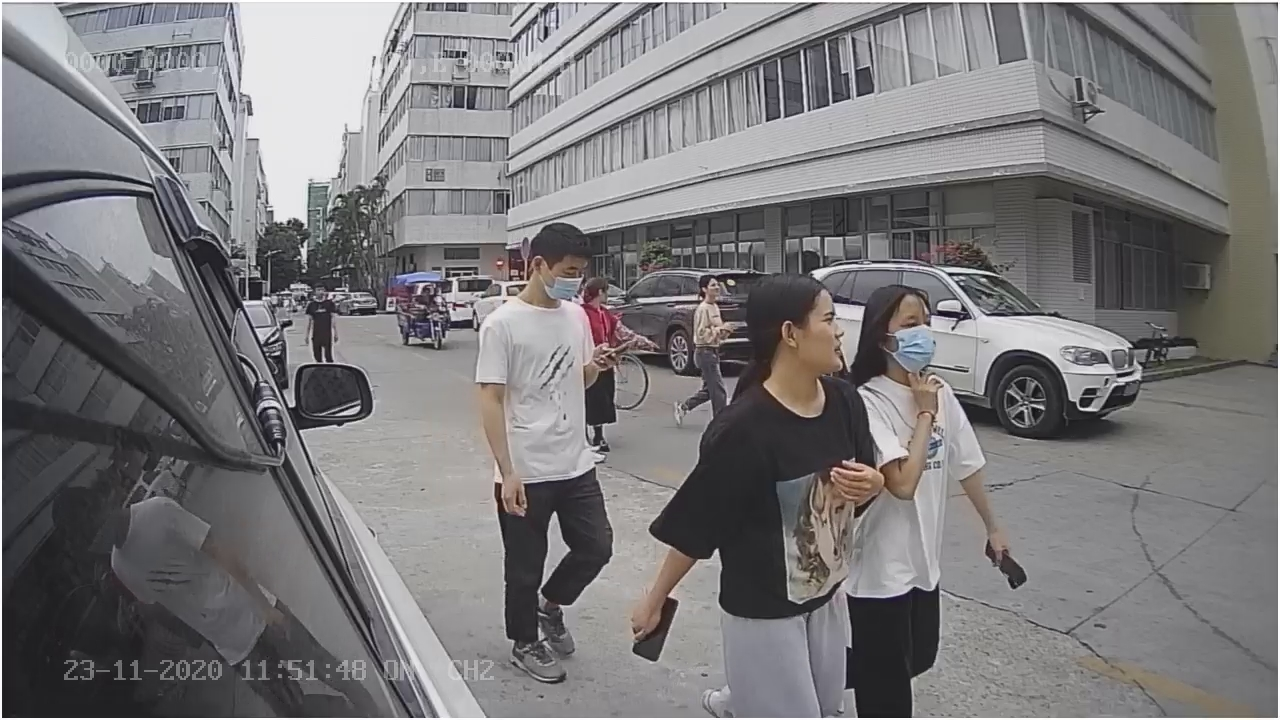person: (475, 209, 620, 680)
